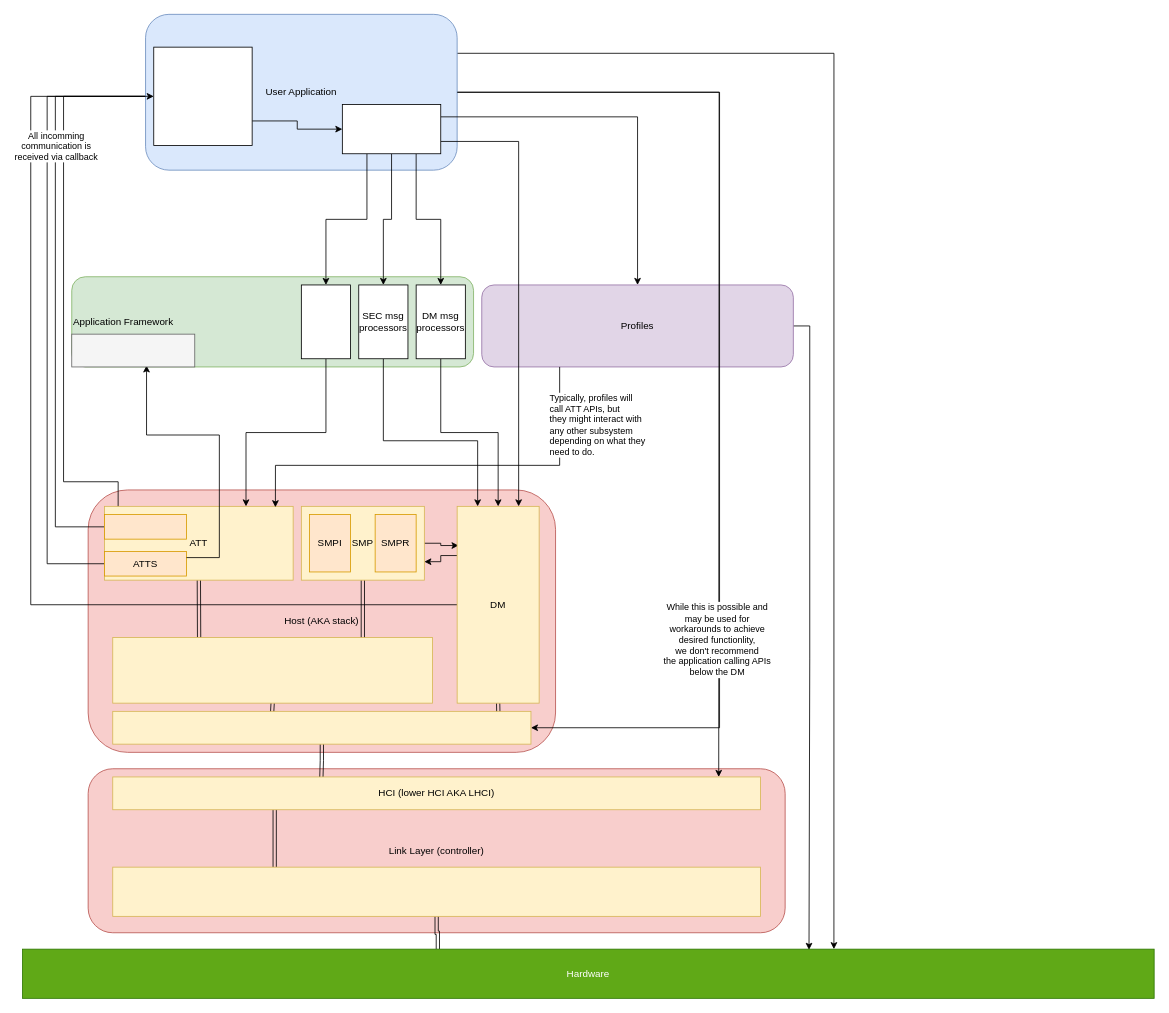
Some shapes in this 1169 by 1013 pixel diagram are drawn without their labels. Here are the shapes that lost their labels. From the top down, the centre of each, then its label:
At (x=202, y=96): "User Application callbacks (dm callback, att callback, atts ccc callback".
At (x=391, y=129): "User Application Handler".
At (x=326, y=321): "ATT msg processors".
At (x=133, y=350): "Application Framework csf callback".
At (x=145, y=526): "ATTC".
At (x=272, y=670): "L2C".
At (x=321, y=727): "HCI (upper HCI AKA exactle )".
At (x=436, y=891): "Other LL layers".
